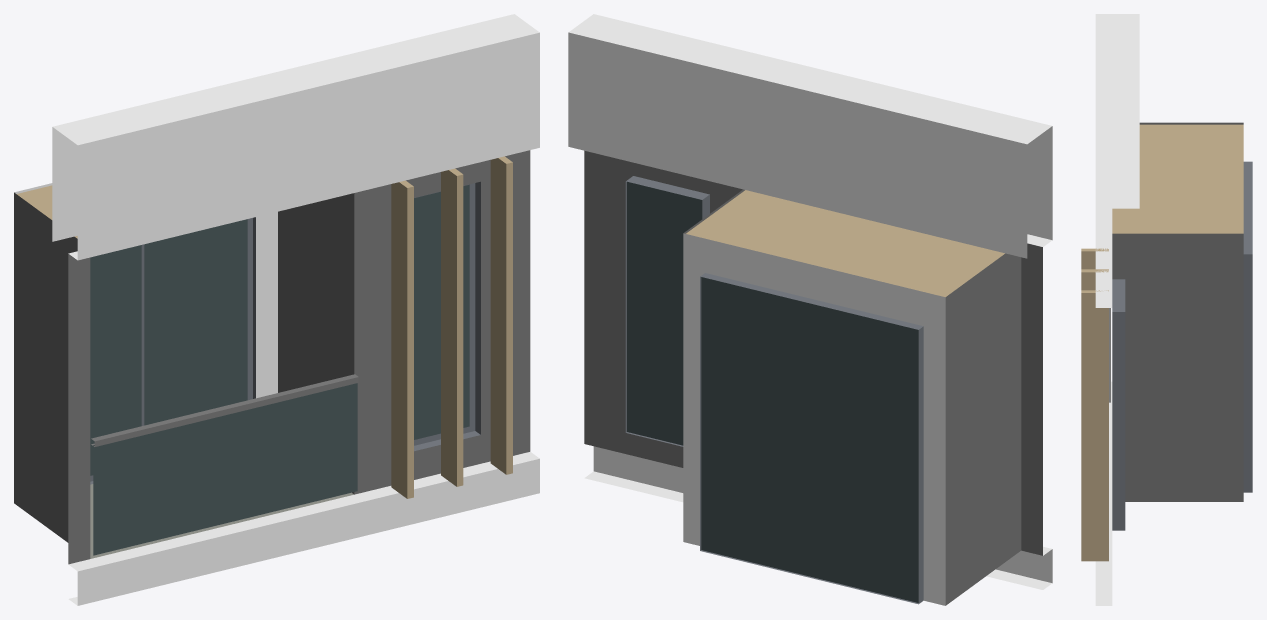
File: top-w1.fbx
The picture shows the model from 3 angles, left to right: view 1: azimuth 30°, elevation 25°; view 2: azimuth 150°, elevation 25°; view 3: azimuth 270°, elevation 25°; orthographic projection. The views are drawn at different scales.
Visible parts, largest first — view 1: a2006/750/top-w1; view 2: a2006/750/top-w1; view 3: a2006/750/top-w1.
Boxes of the visible parts, box(x1,y1,x2,y2) form: a2006/750/top-w1: box(14, 14, 539, 605); a2006/750/top-w1: box(568, 14, 1052, 605); a2006/750/top-w1: box(1081, 14, 1252, 605).
Bounding box in the file's own units: 4.2 × 4 × 1.56.
